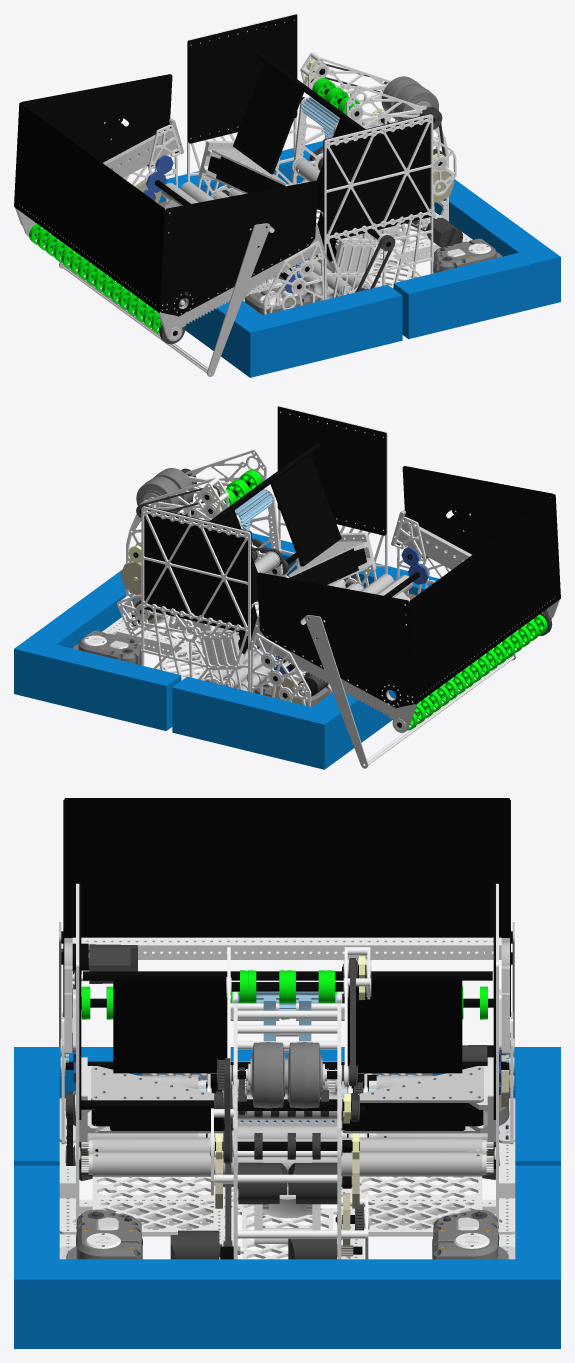
3 renders of one model, top to bottom at view 1: azimuth 30°, elevation 25°; view 2: azimuth 150°, elevation 25°; view 3: azimuth 270°, elevation 25°, orthographic. The views are drawn at different scales.
Parts seen in each view (by area): view 1: Cube, Solid1.431, Solid121.001, Solid1.547, Solid1.548, Solid121.002, Solid1.544, Cylinder.035, Solid4.012, Solid1.344, Solid3.024, Solid1.444 (+20 smaller); view 2: Cube, Solid1.431, Solid121.002, Solid1.548, Solid1.547, Solid121.001, Solid1.543, Cylinder.035, Solid4.013, Solid1.343, Solid1, Solid1.443 (+19 smaller); view 3: Cube, Solid1.431, Cylinder.035, Solid1, Solid1.353, Solid1.560, Solid1.561, Solid2.078, Solid1.050, Solid1.014, Solid1.572, Solid2.079 (+32 smaller).
Part boxes in pixels (bbox=[...]): Cube: bbox=[158, 141, 560, 377]; Solid1.431: bbox=[14, 103, 164, 312]; Solid121.001: bbox=[160, 180, 317, 316]; Solid1.547: bbox=[323, 113, 432, 241]; Solid1.548: bbox=[188, 14, 297, 143]; Solid121.002: bbox=[20, 74, 172, 162]; Solid1.544: bbox=[324, 114, 433, 299]; Cylinder.035: bbox=[233, 50, 365, 212]; Solid4.012: bbox=[207, 223, 270, 376]; Solid1.344: bbox=[159, 224, 326, 331]; Solid3.024: bbox=[16, 119, 183, 236]; Solid1.444: bbox=[263, 241, 324, 314]; Cube: bbox=[14, 533, 439, 769]; Solid1.431: bbox=[410, 494, 560, 704]; Solid121.002: bbox=[257, 572, 414, 708]; Solid1.548: bbox=[142, 505, 251, 633]; Solid1.547: bbox=[277, 406, 386, 535]; Solid121.001: bbox=[402, 466, 554, 554]; Solid1.543: bbox=[141, 506, 250, 691]; Cylinder.035: bbox=[209, 442, 341, 603]; Solid4.013: bbox=[304, 615, 368, 768]; Solid1.343: bbox=[248, 616, 415, 723]; Solid1: bbox=[102, 576, 288, 692]; Solid1.443: bbox=[250, 633, 311, 706]; Cube: bbox=[14, 1047, 560, 1348]; Solid1.431: bbox=[64, 798, 509, 937]; Cylinder.035: bbox=[83, 971, 492, 1073]; Solid1: bbox=[59, 1154, 515, 1259]; Solid1.353: bbox=[72, 937, 501, 959]; Solid1.560: bbox=[92, 1151, 482, 1176]; Solid1.561: bbox=[92, 1137, 482, 1151]; Solid2.078: bbox=[342, 1103, 483, 1130]; Solid1.050: bbox=[59, 1209, 142, 1259]; Solid1.014: bbox=[432, 1209, 515, 1259]; Solid1.572: bbox=[342, 1066, 483, 1102]; Solid2.079: bbox=[91, 1109, 232, 1130].
Size of the model in its own units: 105 by 55.08 by 83.8.
